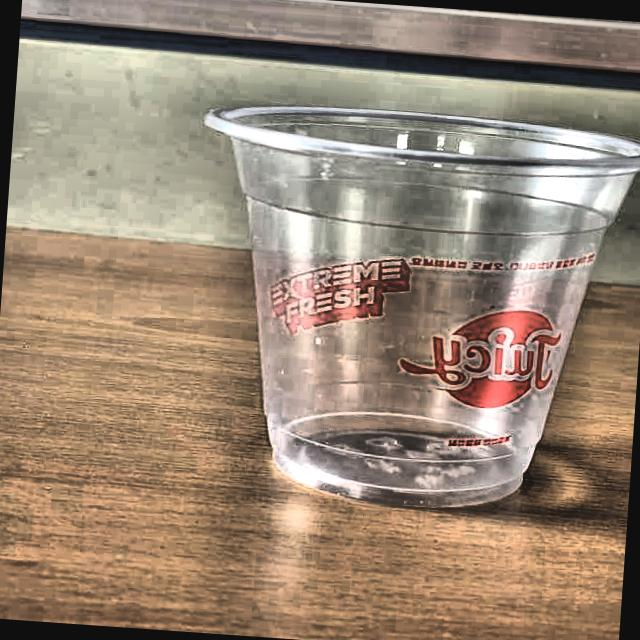plastic cup: (177, 94, 640, 523)
